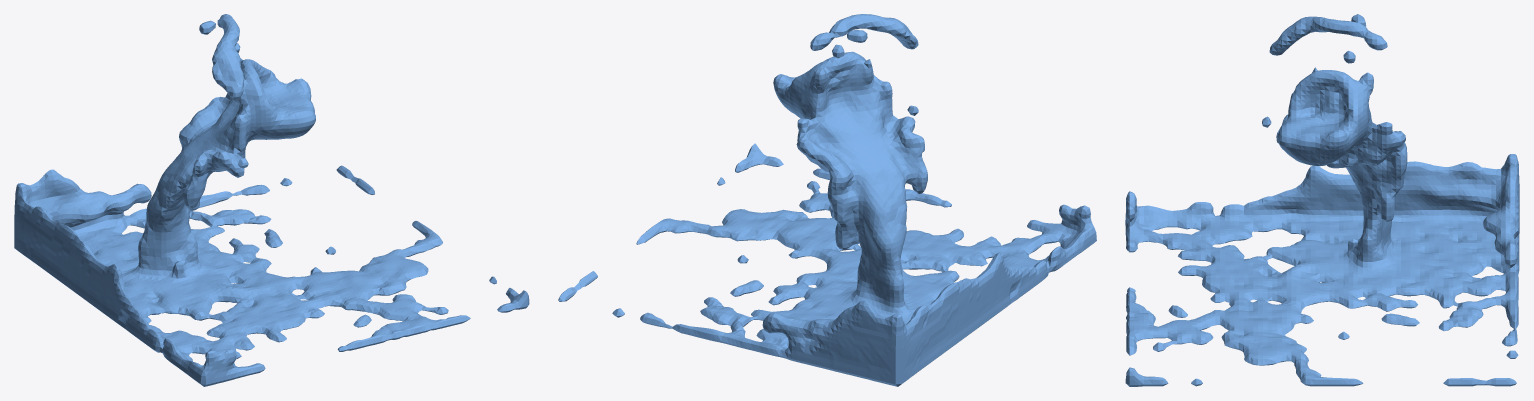
The model's file is water_0052.glb.
3 renders of one model, left to right at view 1: azimuth 30°, elevation 25°; view 2: azimuth 150°, elevation 25°; view 3: azimuth 270°, elevation 25°, orthographic. The views are drawn at different scales.
Visible parts, largest first — view 1: Water_0052; view 2: Water_0052; view 3: Water_0052.
Part boxes in pixels (x1,y1,x2,y2): Water_0052: (14, 14, 529, 386); Water_0052: (558, 14, 1096, 386); Water_0052: (1125, 14, 1519, 386).
Size of the model in its own units: 4.83 by 3.64 by 4.83.
